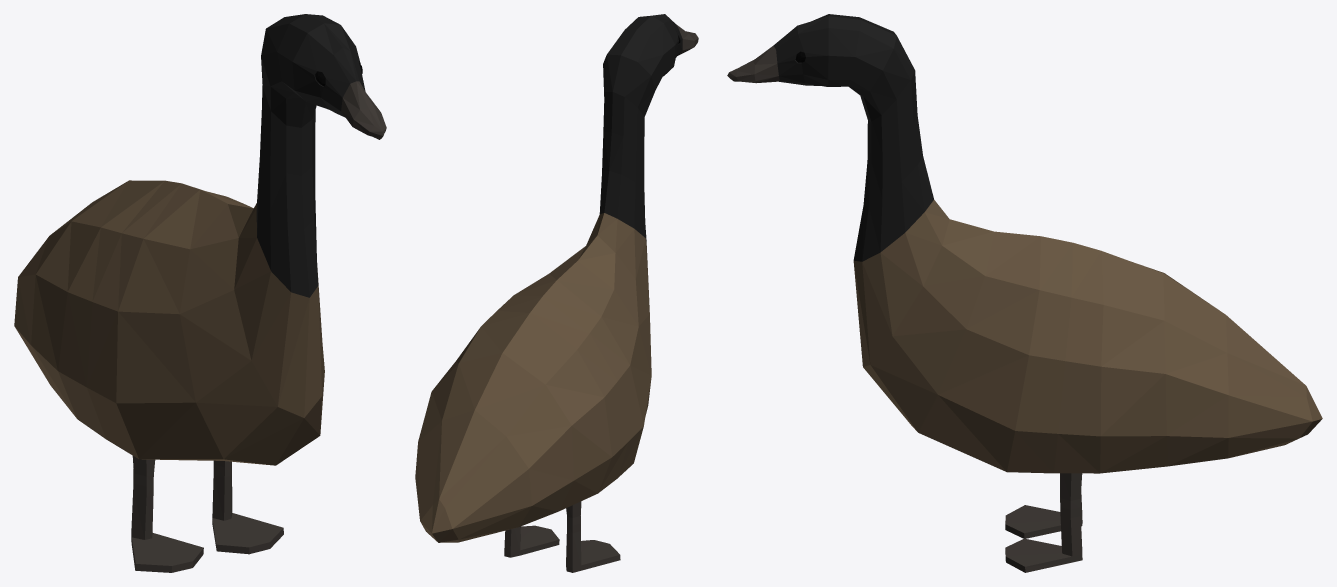
The model's file is Goose.fbx.
The picture shows the model from 3 angles, left to right: view 1: azimuth 30°, elevation 25°; view 2: azimuth 150°, elevation 25°; view 3: azimuth 270°, elevation 25°; orthographic projection. The views are drawn at different scales.
Parts seen in each view (by area): view 1: TriangulatedGoose; view 2: TriangulatedGoose; view 3: TriangulatedGoose.
Boxes of the visible parts, x1,y1,x2,y2 form: TriangulatedGoose: [14, 14, 386, 572]; TriangulatedGoose: [415, 14, 698, 572]; TriangulatedGoose: [727, 14, 1322, 572].
Size of the model in its own units: 26.8 by 73.06 by 75.
